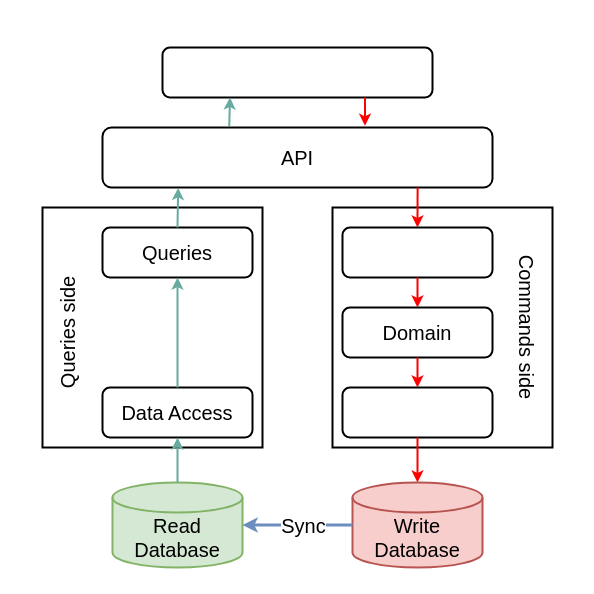
Some shapes in this 594 by 594 pixel diagram are drawn without their labels. Here are the shapes that lost their labels. From the top down, the centre of each, then its label:
the point at 297,72: Client
the point at 417,252: Commands
the point at 417,412: Persistence
